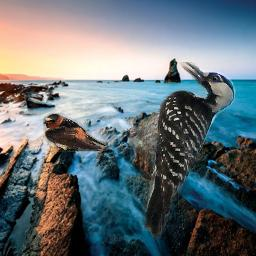Swallow: (43, 113, 109, 152)
Woodpecker: (127, 62, 237, 240)
